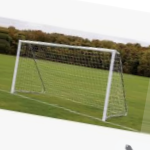goals: (9, 38, 133, 121)
